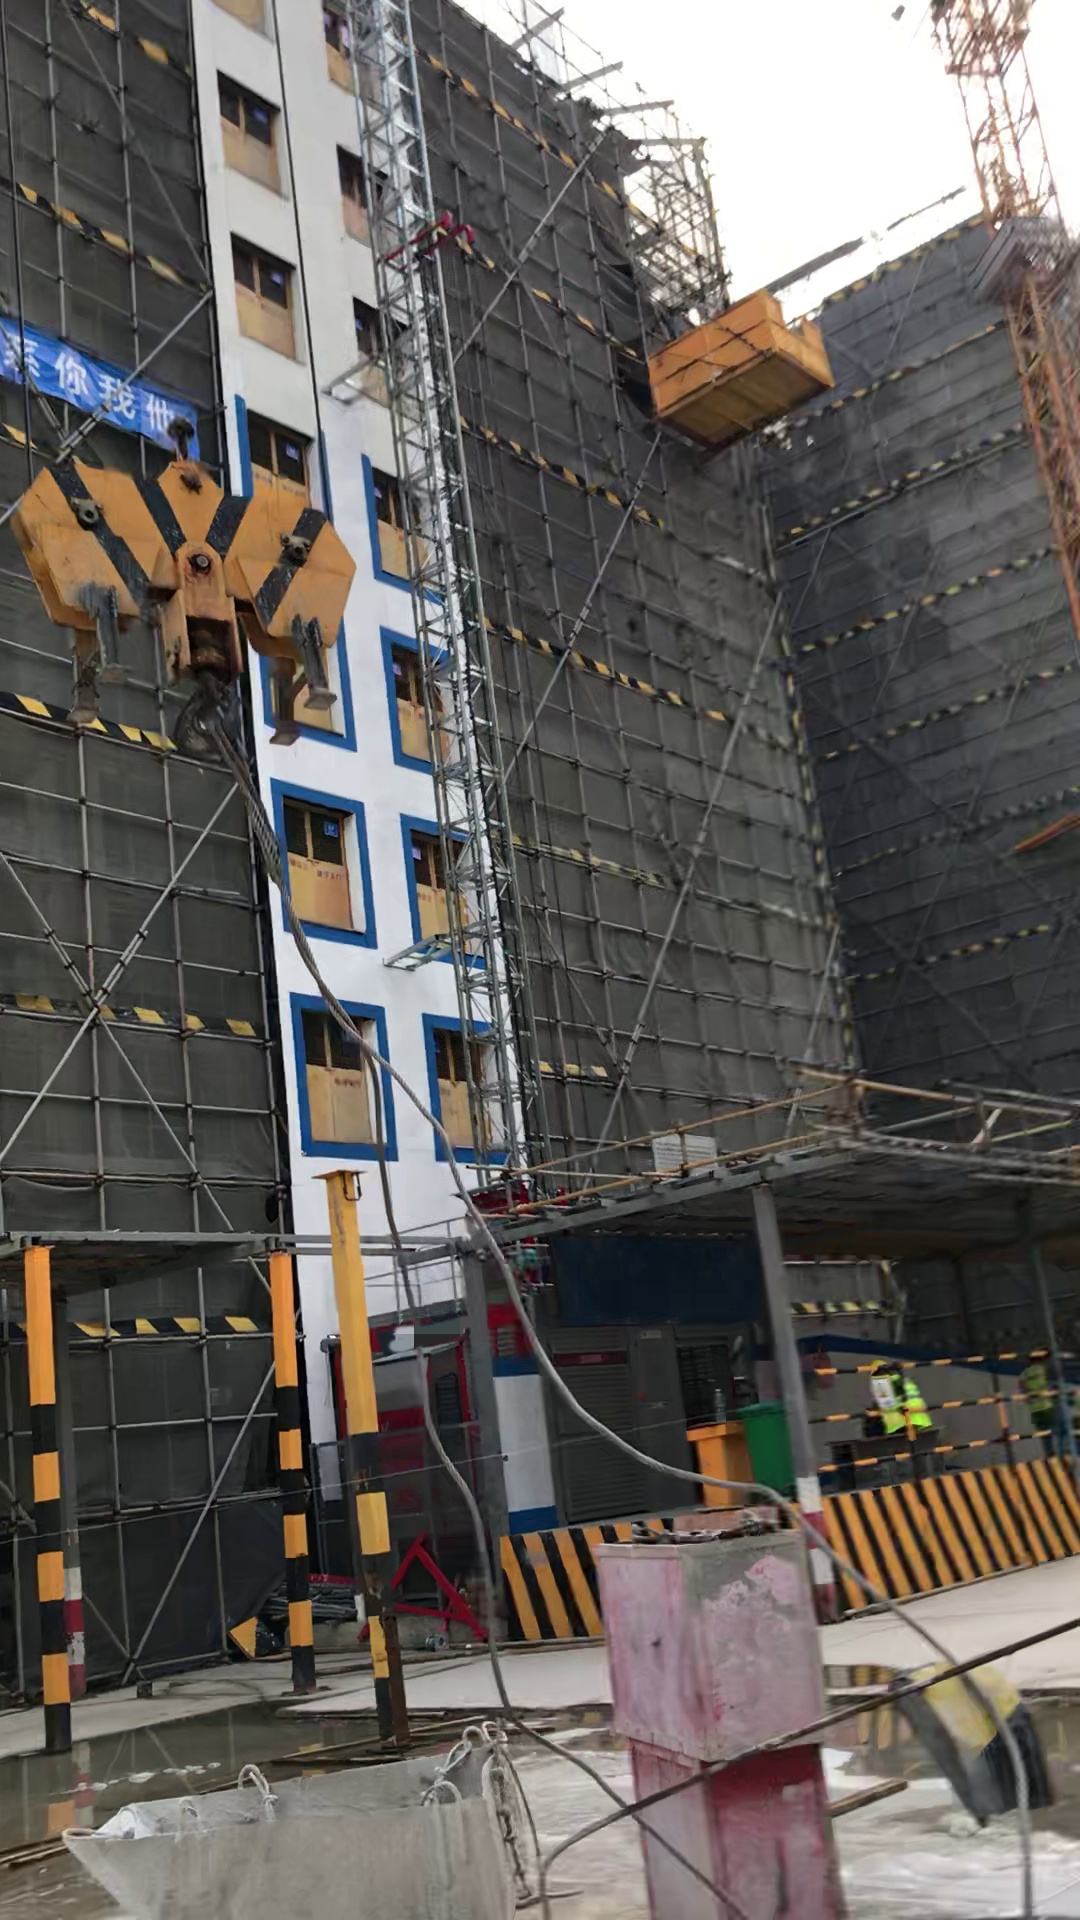ebox: (694, 1406, 751, 1510)
hook: (16, 428, 376, 663)
hopper: (57, 1713, 561, 1915)
person: (860, 1340, 938, 1477), (1008, 1349, 1072, 1448)
vest: (883, 1378, 935, 1430), (1020, 1369, 1056, 1412)
